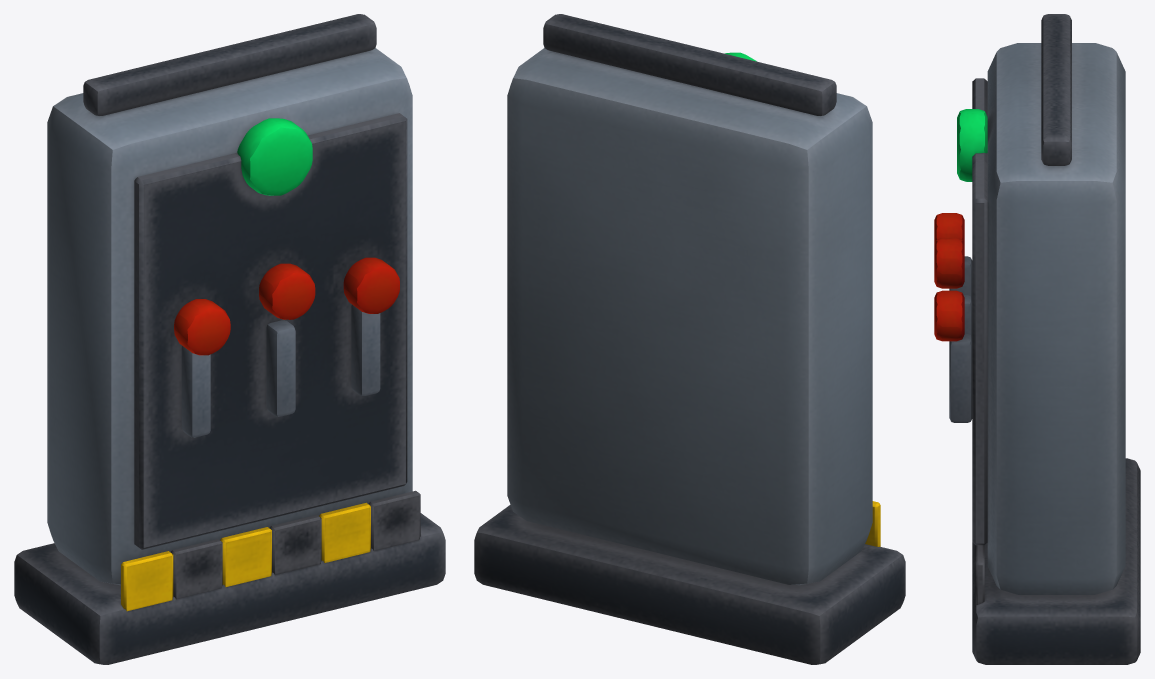
File: FuseBox.fbx
3 views of the same model, side by side, from view 1: azimuth 30°, elevation 25°; view 2: azimuth 150°, elevation 25°; view 3: azimuth 270°, elevation 25° (orthographic). The views are drawn at different scales.
Visible parts, largest first — view 1: FuseBox; view 2: FuseBox; view 3: FuseBox.
Boxes of the visible parts, bbox=[...] form: FuseBox: bbox=[14, 14, 445, 664]; FuseBox: bbox=[474, 14, 905, 664]; FuseBox: bbox=[934, 14, 1140, 664].
Bounding box in the file's own units: 0.5 × 0.74 × 0.27.
